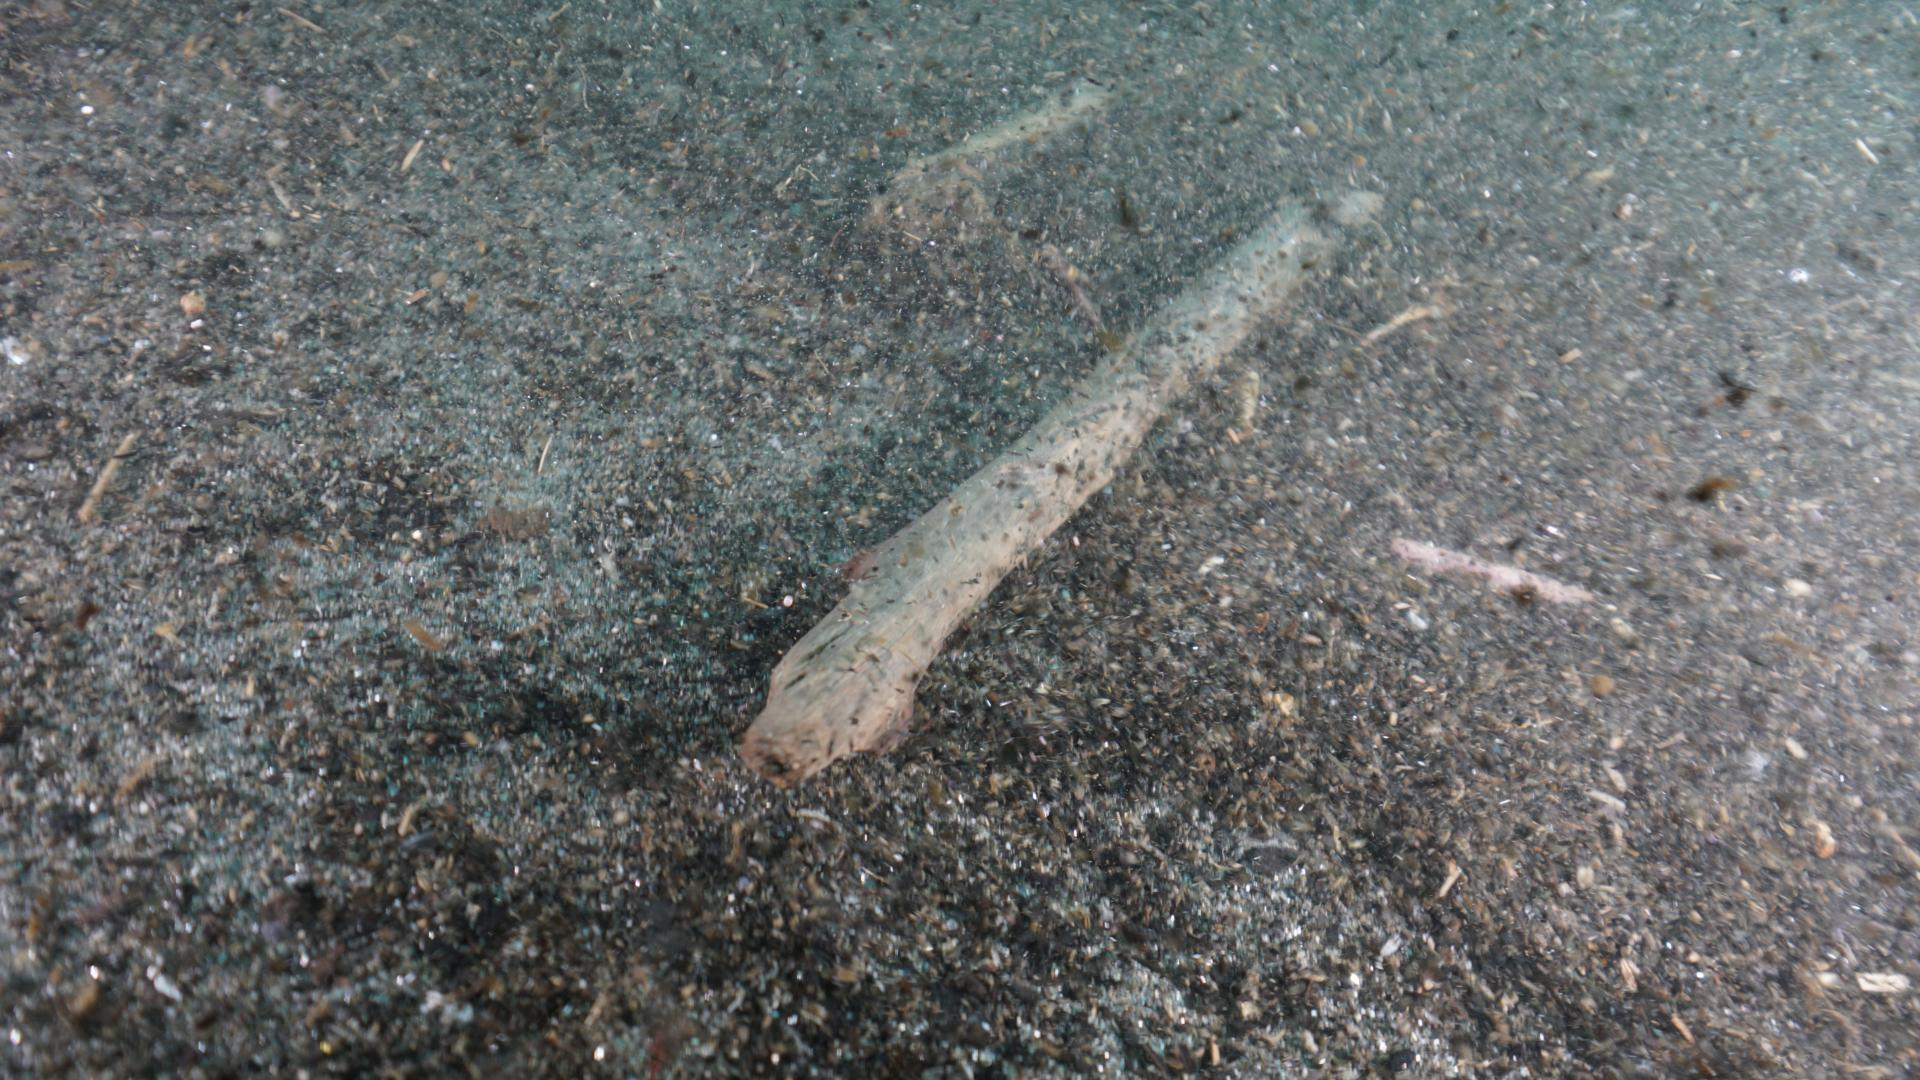wood: (736, 185, 1393, 785)
